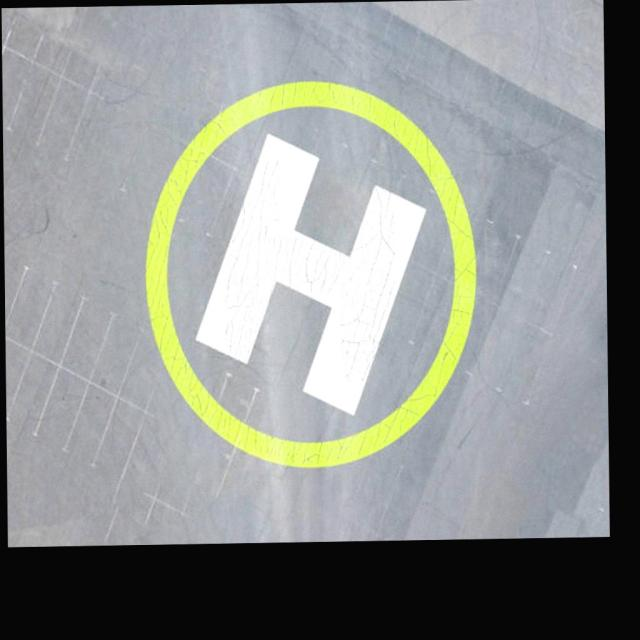helipad: (137, 72, 484, 476)
